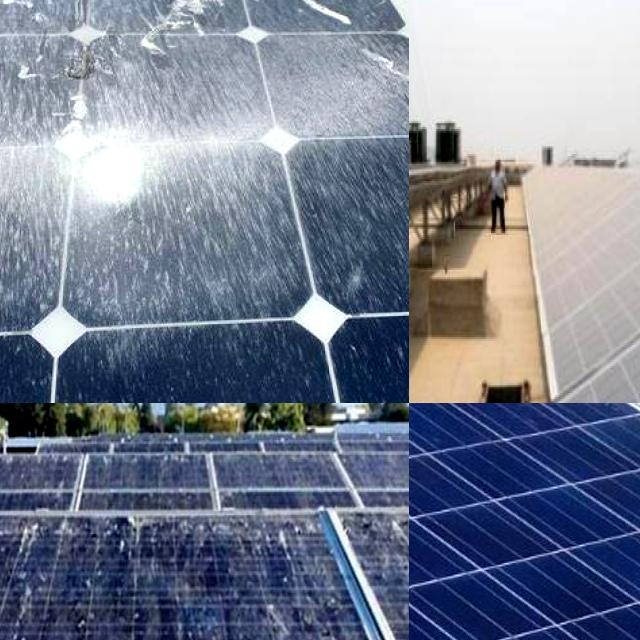bird: (104, 0, 331, 70), (0, 0, 40, 28)
crack: (409, 403, 640, 640)
dust: (551, 170, 640, 325)
